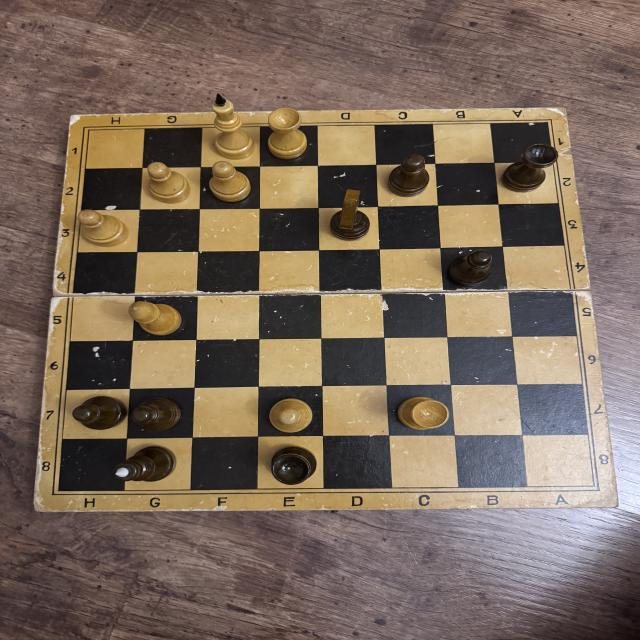black-king: (112, 447, 176, 482)
black-knight: (328, 190, 372, 240)
black-pawn: (71, 395, 126, 431), (132, 396, 182, 434), (387, 153, 430, 197), (447, 249, 495, 286)
black-rook: (500, 143, 559, 193), (268, 445, 318, 486)
white-bishop: (128, 300, 183, 337)
white-king: (208, 91, 256, 160)
white-pawn: (207, 161, 251, 204), (145, 163, 190, 205), (78, 210, 127, 247), (269, 398, 311, 432)
white-rook: (266, 107, 309, 159), (397, 394, 451, 432)
